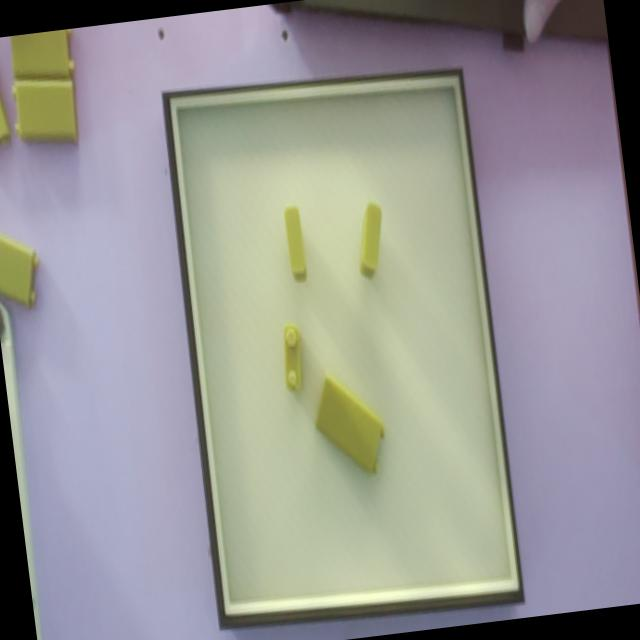bateria: (313, 370, 386, 478), (11, 79, 78, 144)
mesa: (161, 69, 525, 628)
